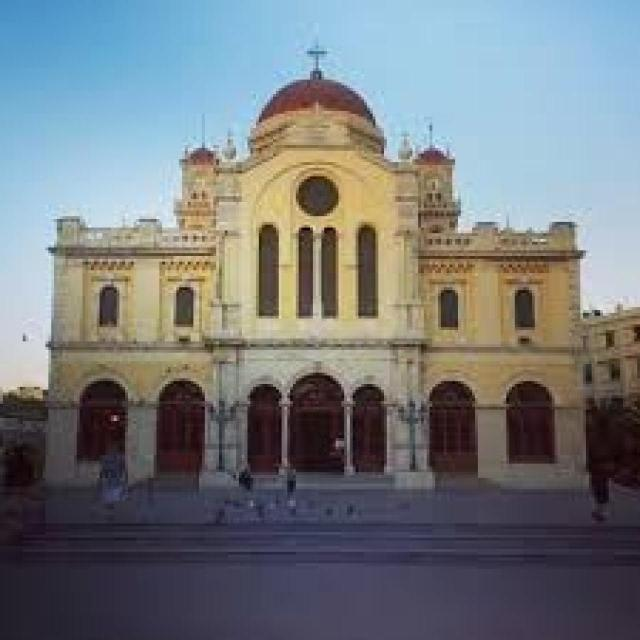Agios Minas: (45, 28, 592, 497)
